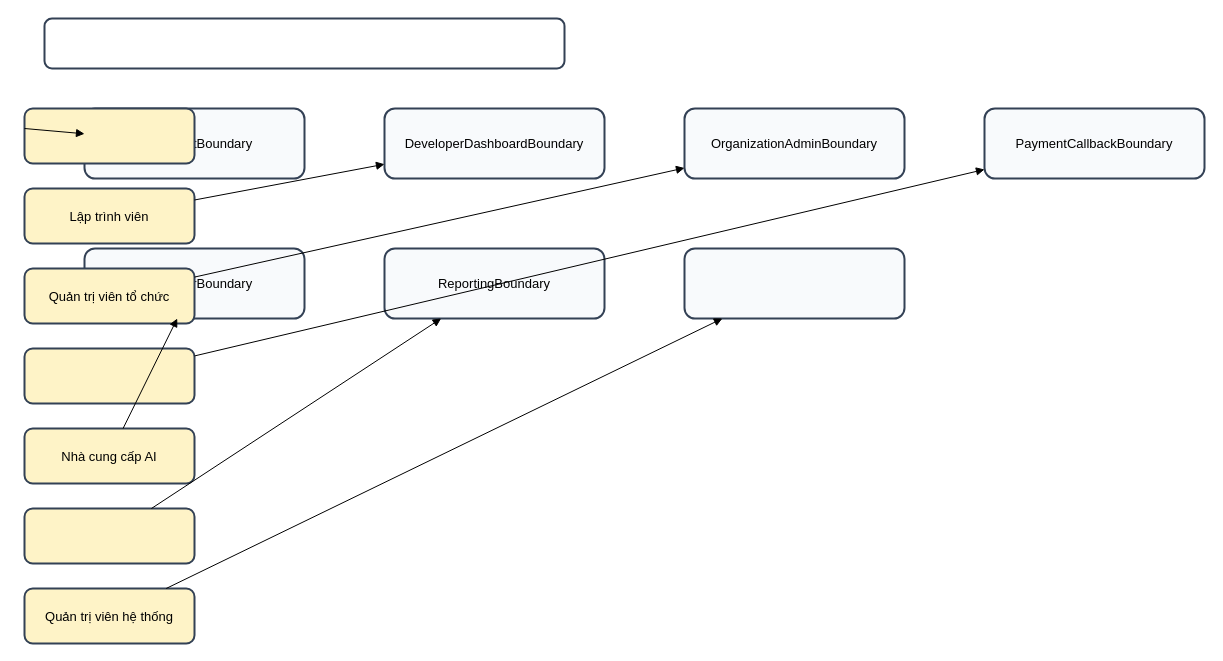
Image size: 1223x661. Some labels were removed from this diagram. Here are the shapes that lost their labels. From the top down, the centre of each, then its label:
At point (304, 43): "Lớp biên".
At point (109, 135): "AI Agent".
At point (794, 283): "SystemAdminBoundary".
At point (109, 375): "Nhà cung cấp thanh toán".
At point (109, 535): "Người dùng có quyền".
